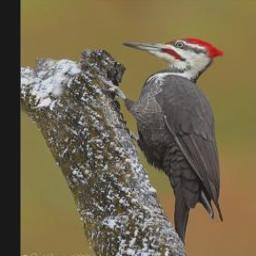Woodpecker: (99, 37, 226, 250)
